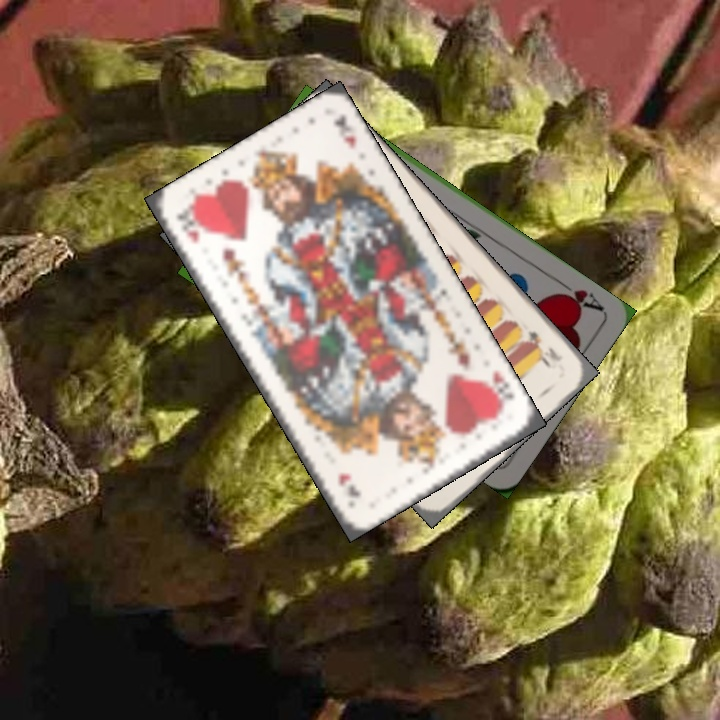E10: (523, 326, 565, 369)
HA: (552, 275, 606, 314)
HK: (487, 368, 518, 415), (172, 205, 203, 244)
